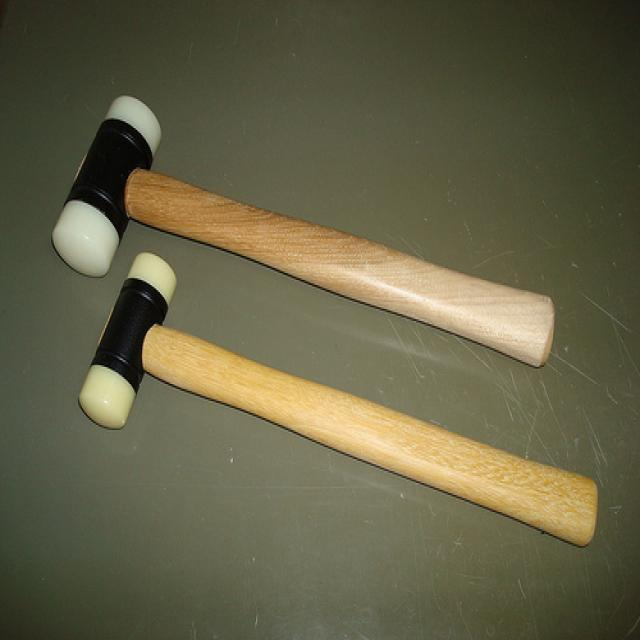hammer: (71, 245, 608, 557), (39, 81, 557, 372)
